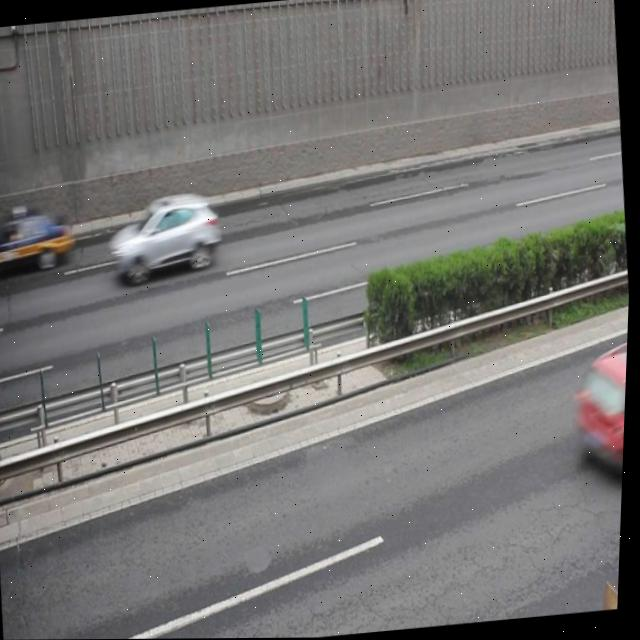car: (109, 188, 225, 279), (572, 343, 630, 486), (0, 200, 77, 274)
